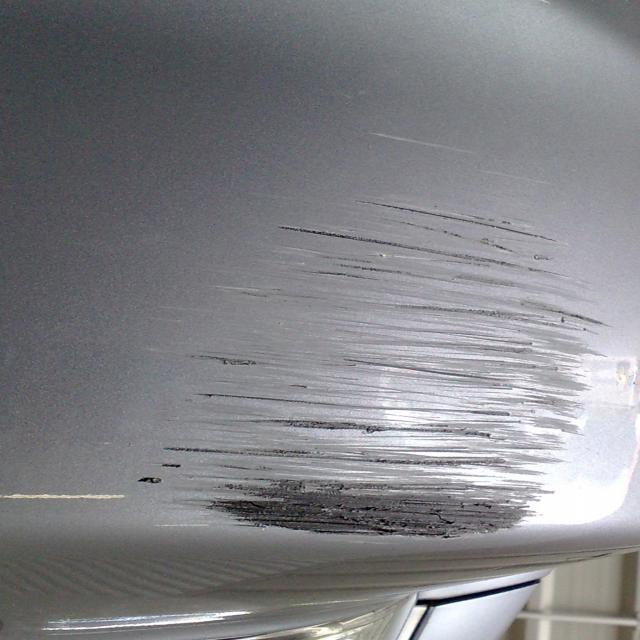scratch: (128, 176, 606, 561)
